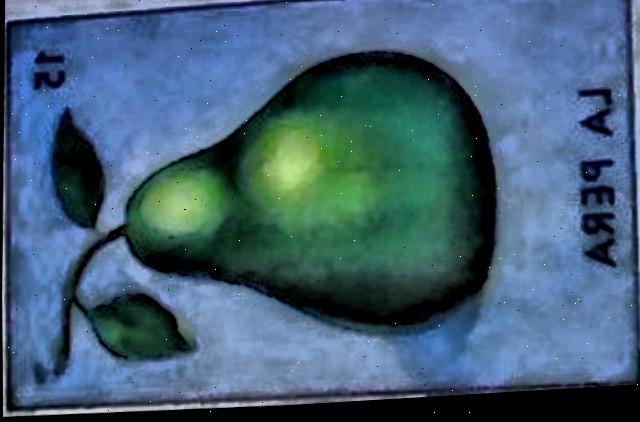La Pera: (8, 0, 637, 406)
